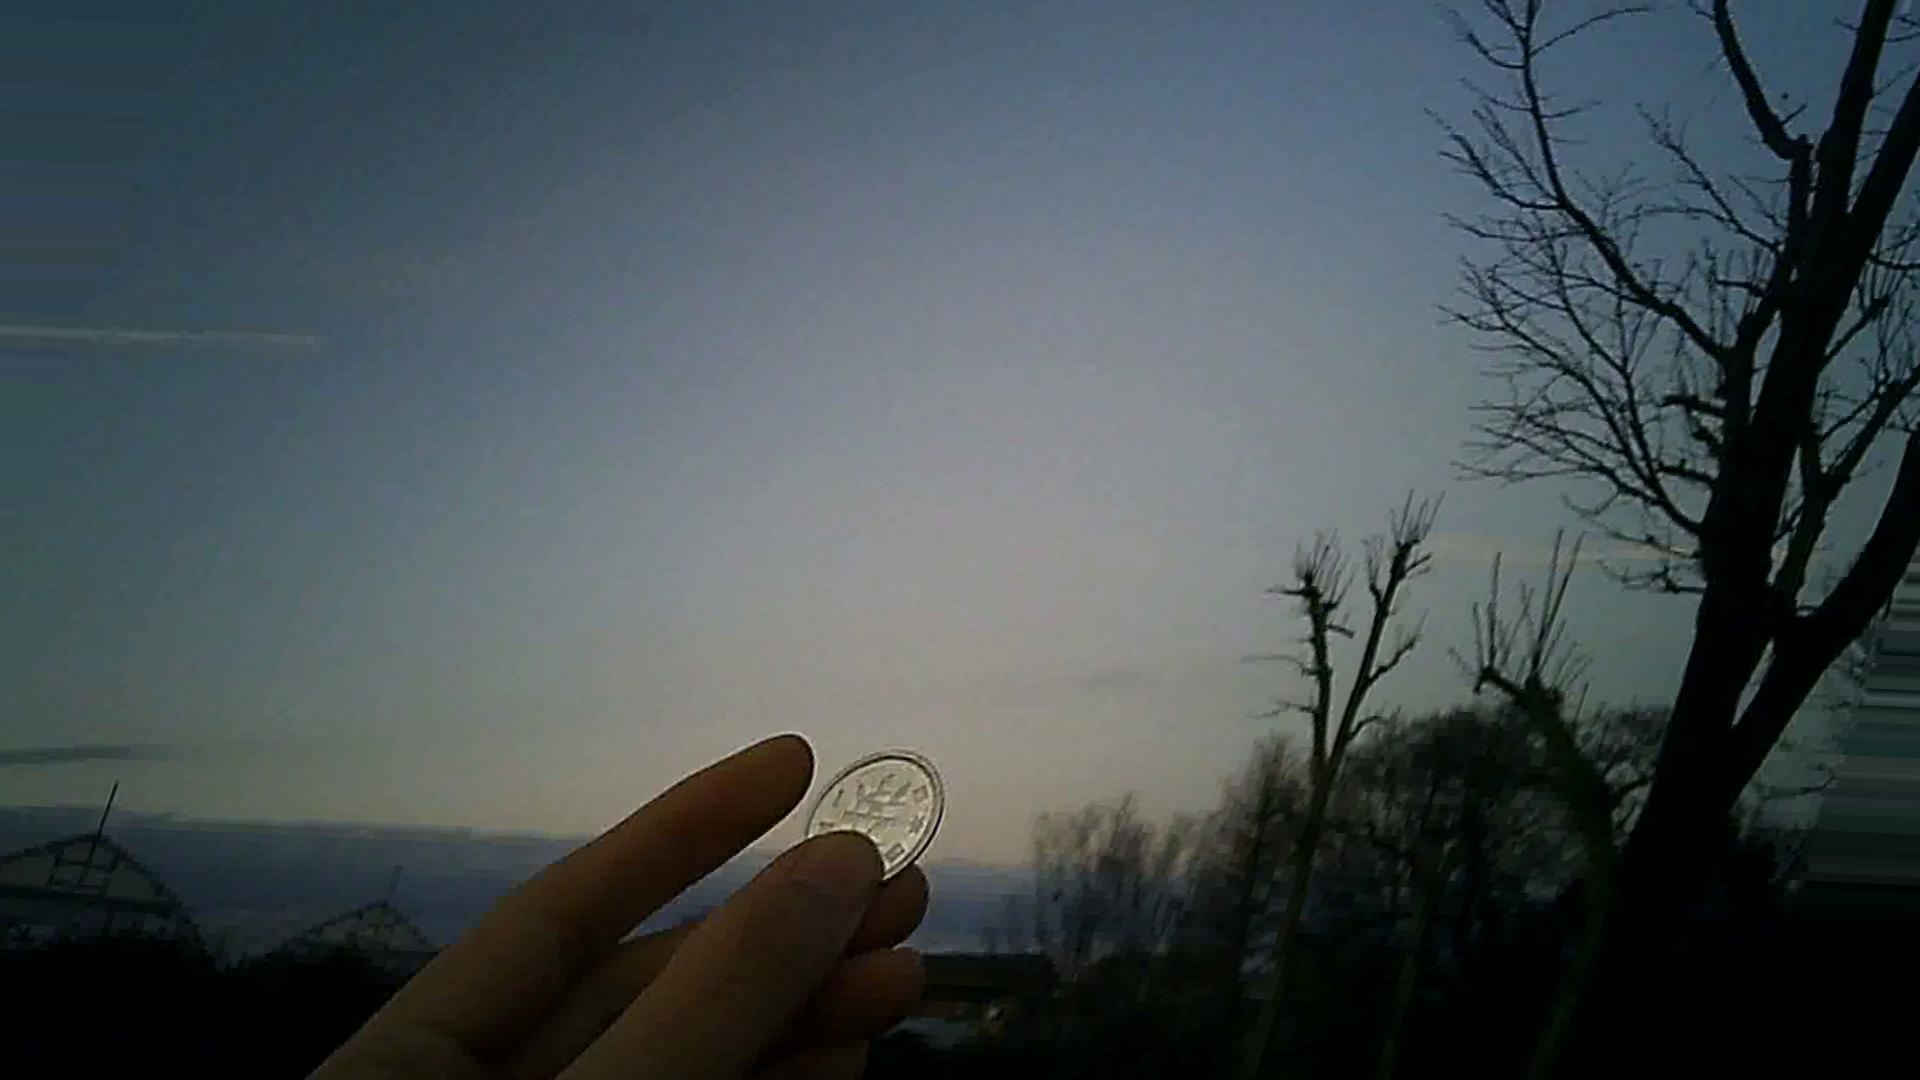1 Yen: (793, 745, 952, 884)
